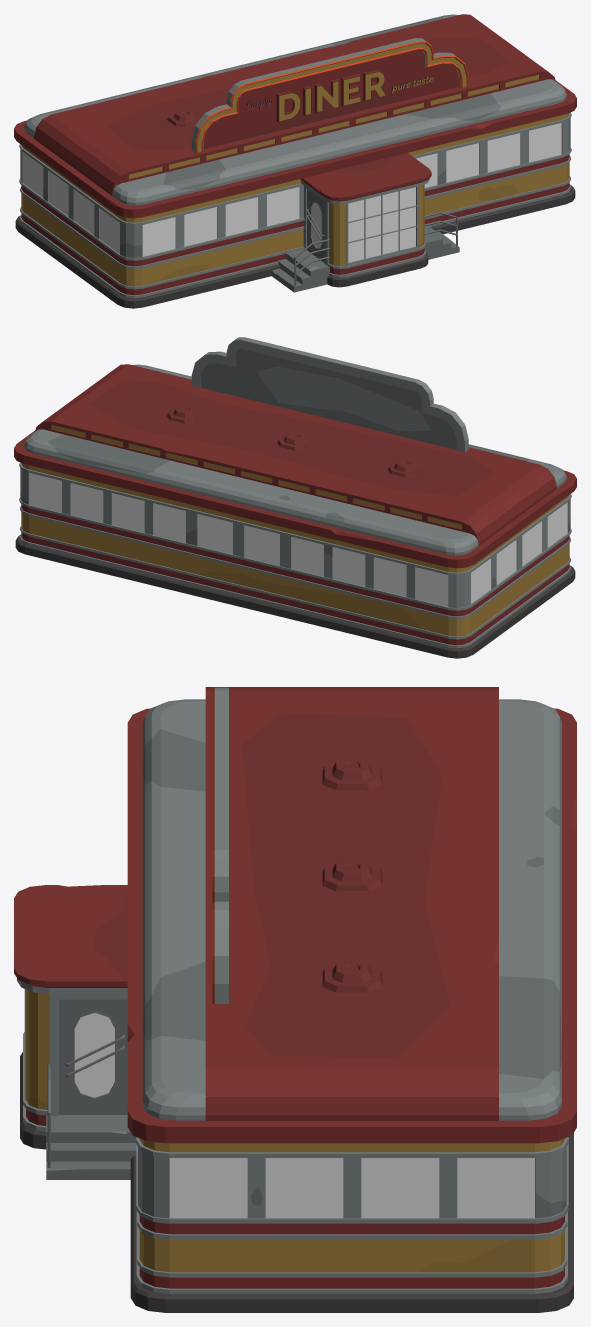
Rendered from SM_Bldg_City_Shop_Big_Diner.fbx.
The picture shows the model from 3 angles, top to bottom: view 1: azimuth 30°, elevation 25°; view 2: azimuth 150°, elevation 25°; view 3: azimuth 270°, elevation 25°; orthographic projection. The views are drawn at different scales.
Parts seen in each view (by area): view 1: SM_Bldg_City_Shop_Big_Diner, SM_Bldg_City_Shop_Big_Diner_Glass; view 2: SM_Bldg_City_Shop_Big_Diner, SM_Bldg_City_Shop_Big_Diner_Glass; view 3: SM_Bldg_City_Shop_Big_Diner, SM_Bldg_City_Shop_Big_Diner_Glass.
Part boxes in pixels (x1=…): SM_Bldg_City_Shop_Big_Diner: x1=14, y1=14, x2=576, y2=308; SM_Bldg_City_Shop_Big_Diner_Glass: x1=23, y1=123, x2=561, y2=262; SM_Bldg_City_Shop_Big_Diner: x1=14, y1=337, x2=576, y2=658; SM_Bldg_City_Shop_Big_Diner_Glass: x1=29, y1=473, x2=567, y2=606; SM_Bldg_City_Shop_Big_Diner: x1=14, y1=687, x2=576, y2=1312; SM_Bldg_City_Shop_Big_Diner_Glass: x1=169, y1=1158, x2=534, y2=1217.
Size of the model in its own units: 1660 by 615 by 940.
